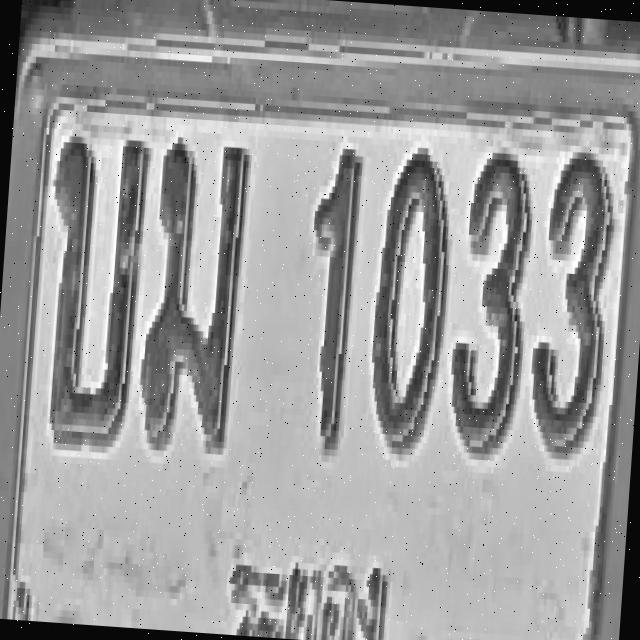0: (366, 142, 456, 453)
1: (296, 144, 362, 452)
3: (527, 143, 618, 454), (446, 144, 536, 456)
35BorBaiMai: (36, 128, 150, 448)
42MorMa: (136, 132, 252, 452)
Rayong: (215, 533, 399, 640)
